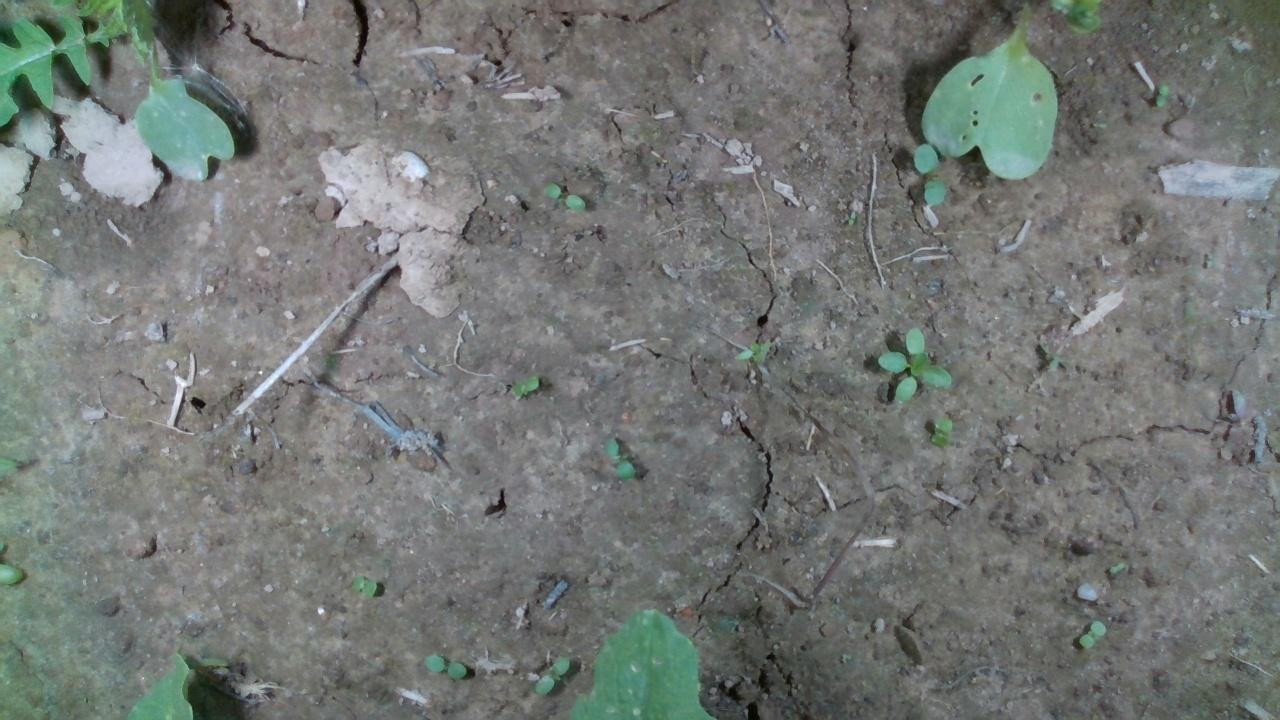weed: (535, 181, 590, 212)
